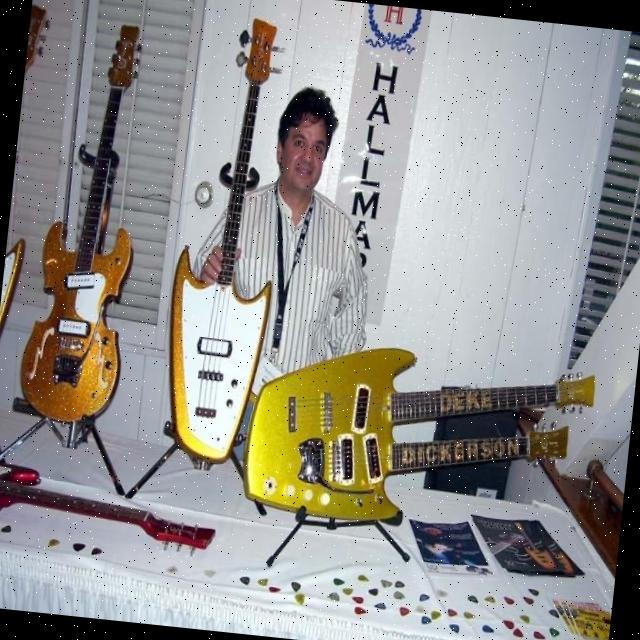guitar: (235, 330, 600, 547), (18, 16, 159, 439)
